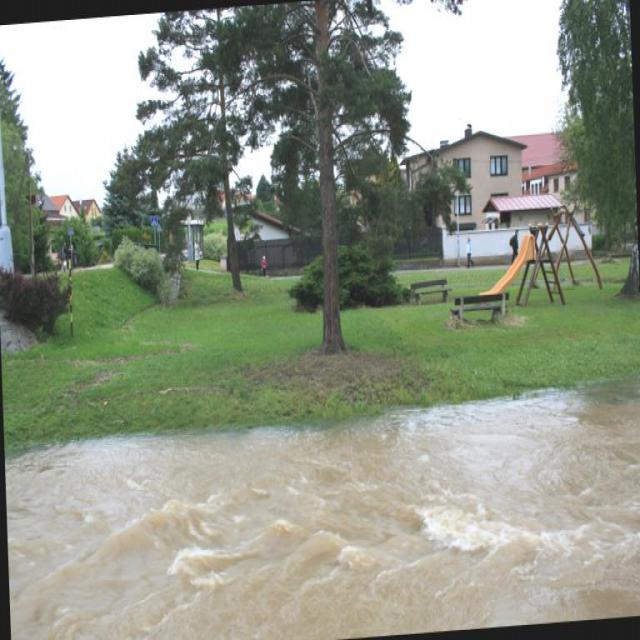flood: (3, 370, 639, 639)
